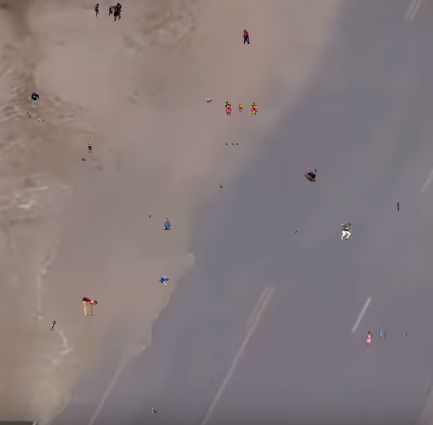Human: (94, 3, 122, 21), (225, 101, 258, 116), (366, 329, 387, 351), (303, 165, 321, 182), (82, 297, 98, 316), (234, 29, 250, 45), (27, 111, 45, 123), (340, 223, 352, 241), (31, 92, 39, 109), (163, 218, 171, 230), (159, 276, 169, 285), (50, 320, 56, 332), (88, 140, 92, 153), (205, 97, 213, 103), (151, 408, 157, 413), (397, 202, 400, 211), (226, 143, 238, 145), (220, 184, 223, 188), (82, 158, 86, 161), (149, 215, 151, 218), (295, 230, 297, 233), (406, 332, 407, 336), (211, 380, 212, 383)
